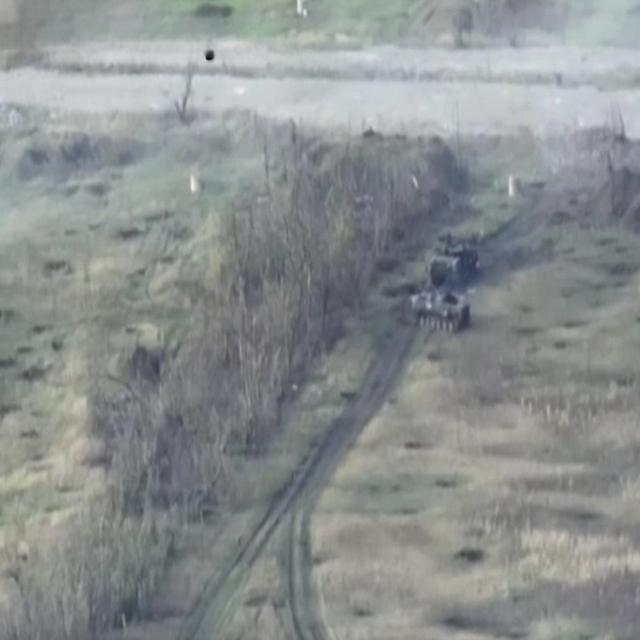AIFV: (408, 286, 475, 337)
MBT: (427, 231, 497, 286)
